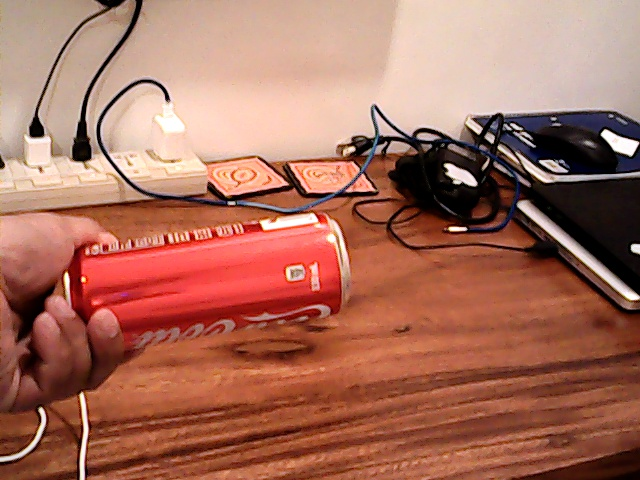Cola: (70, 217, 349, 351)
